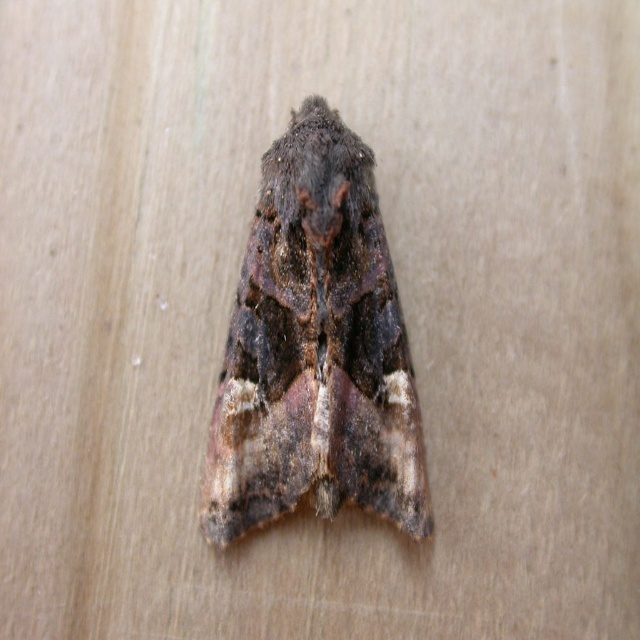Moths and butterflies: (196, 91, 436, 548)
